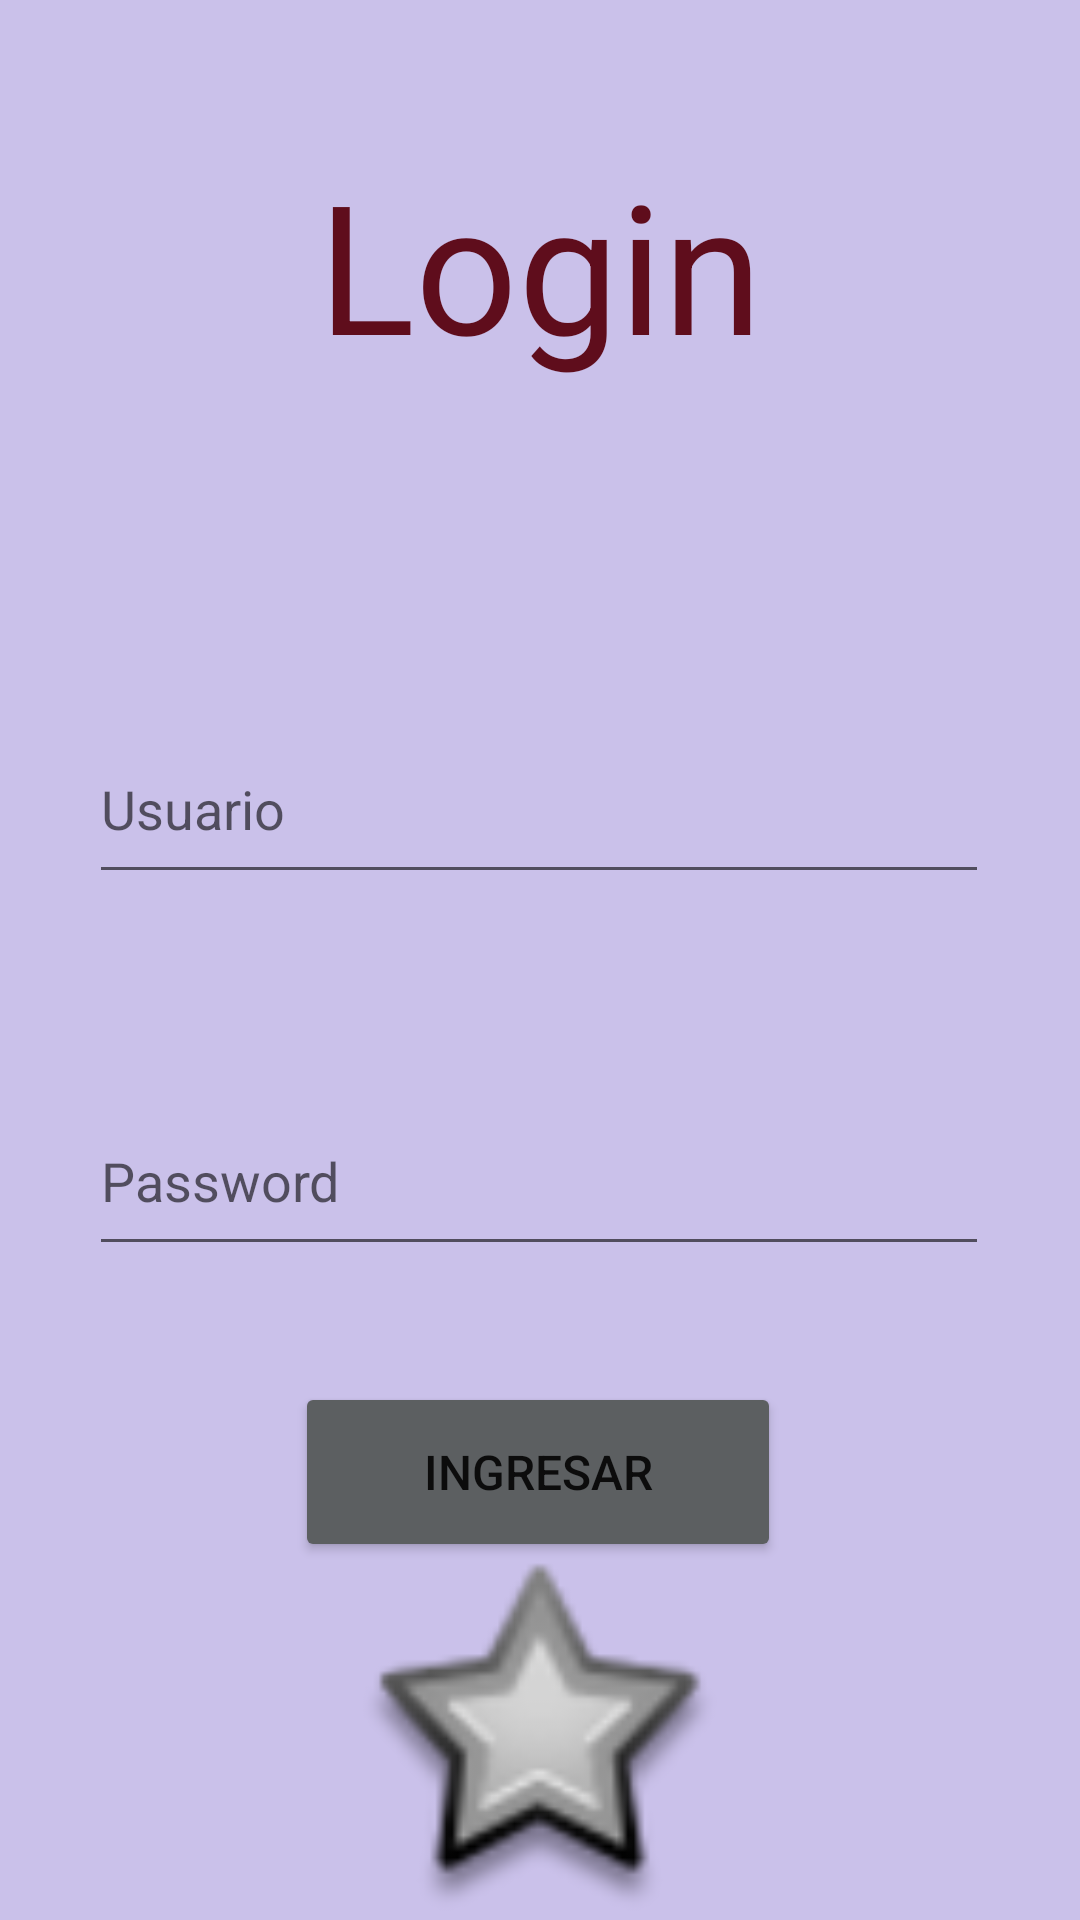

Icons on this 1080x1920 Android screen, each with the point to tap as (x=x, y=y):
star off: (x=540, y=1729)
